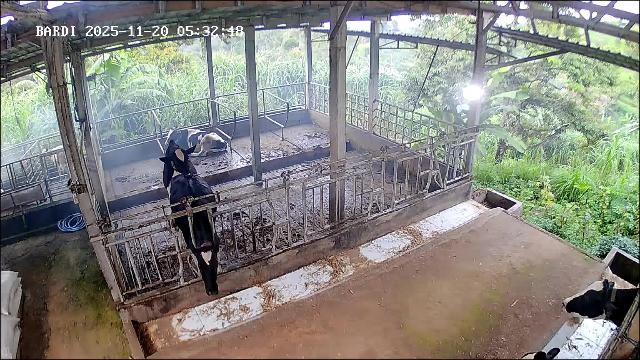mounting: (158, 138, 200, 232)
